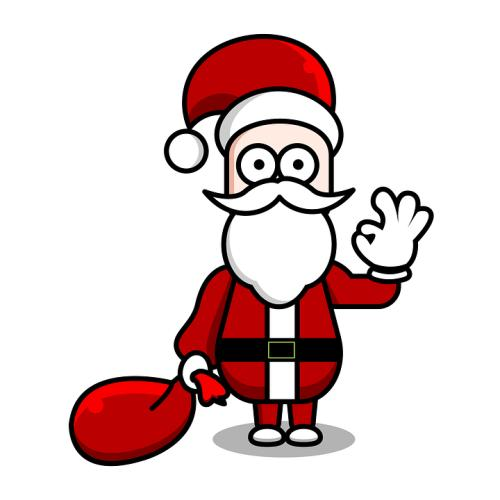Santa: (161, 32, 435, 447)
